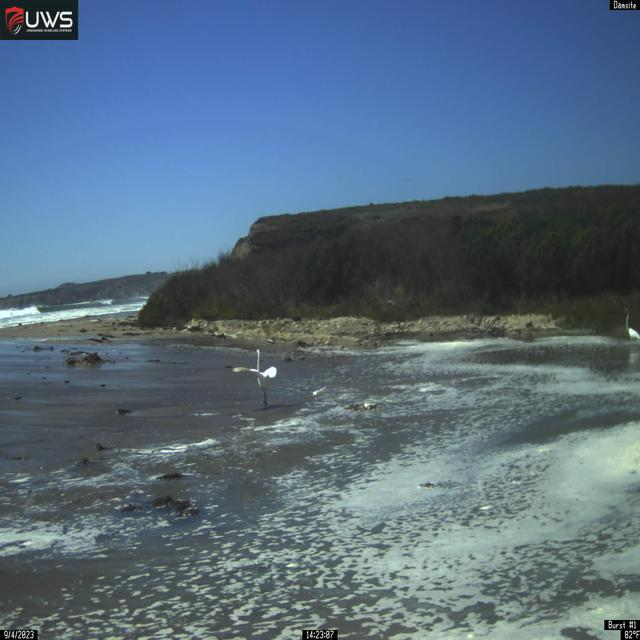bird: (623, 307, 640, 347)
